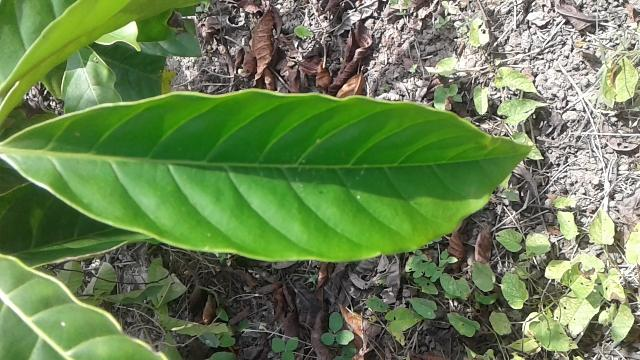healthy: (2, 88, 532, 262)
